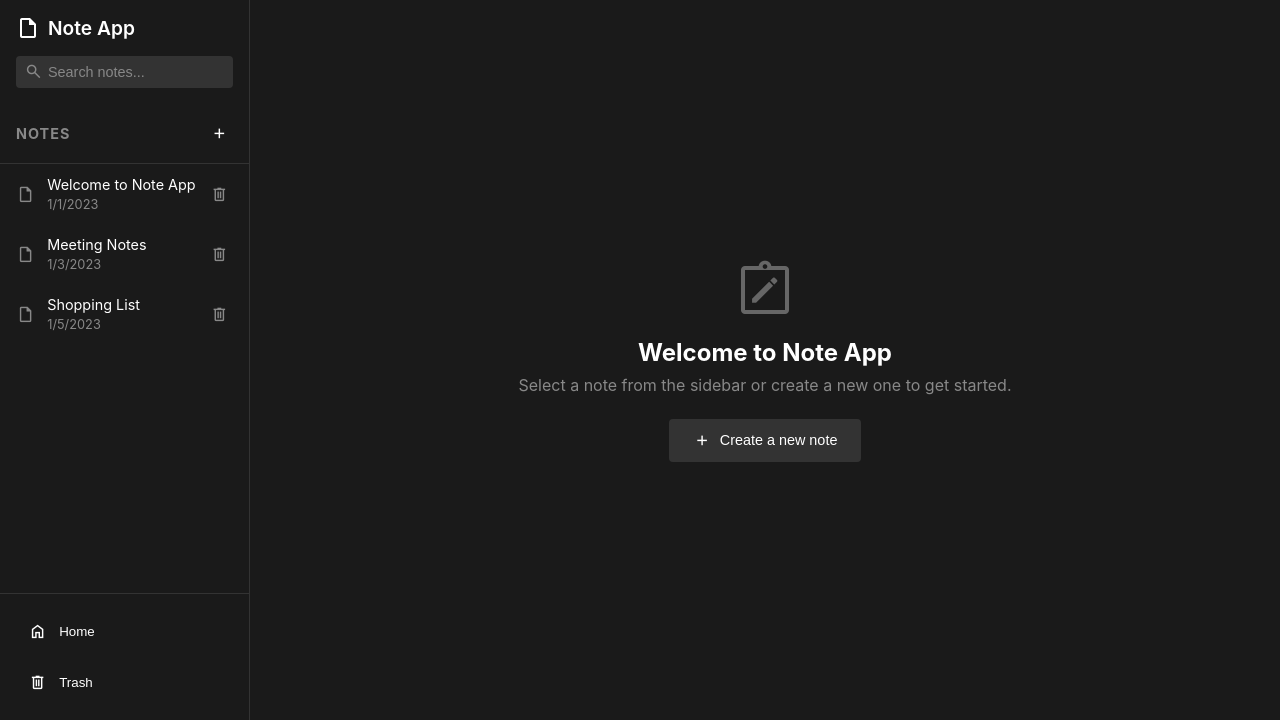
Scenario: App Component › handles note deletion and trash functionality
Create and save a note
Click the button "Create a new note" at (765, 440), box [669,419,861,462]
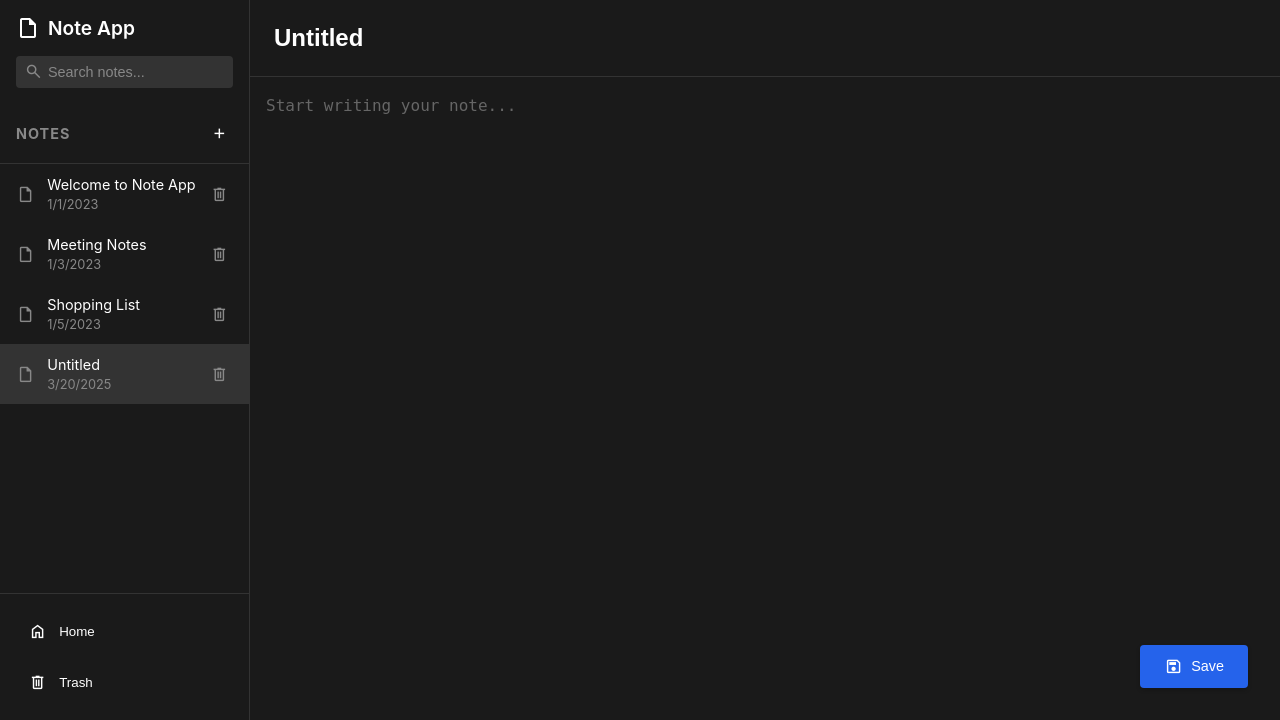
Type "Note to Delete" into the field with placeholder "Untitled" at (765, 38), box [266,16,1264,60]
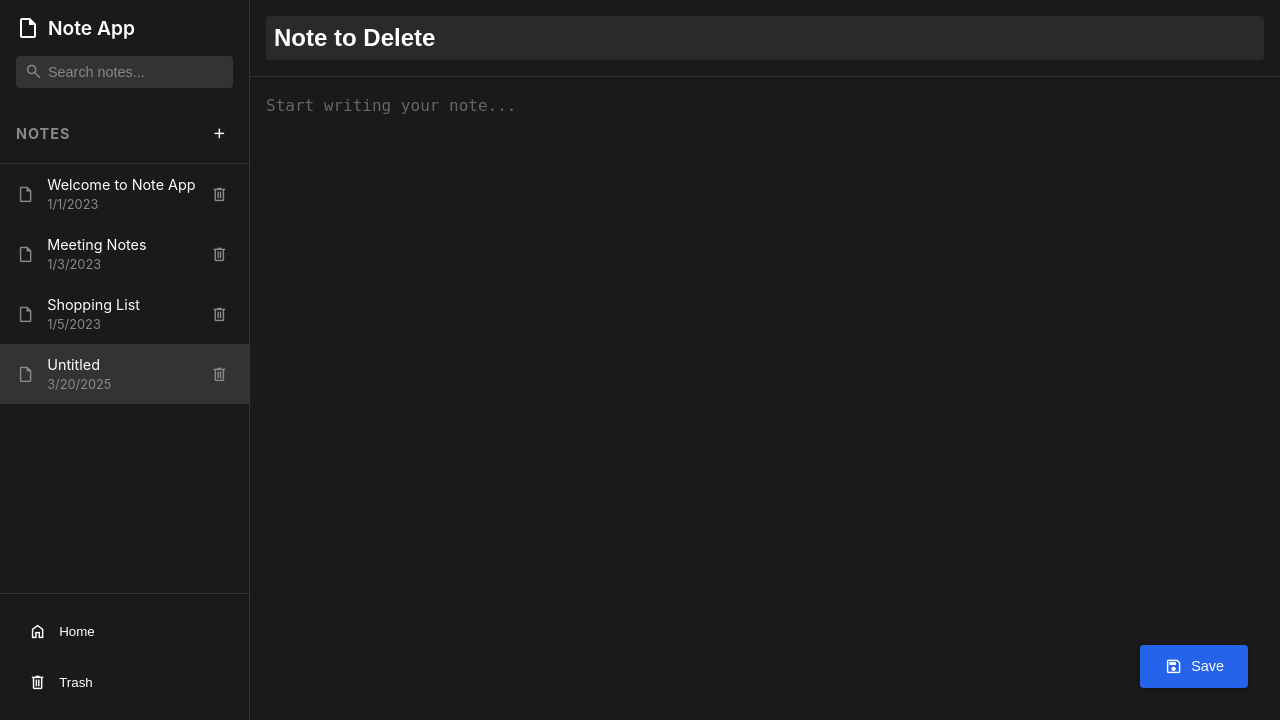
Click the button "Save" at (1194, 666), box [1140,645,1248,688]
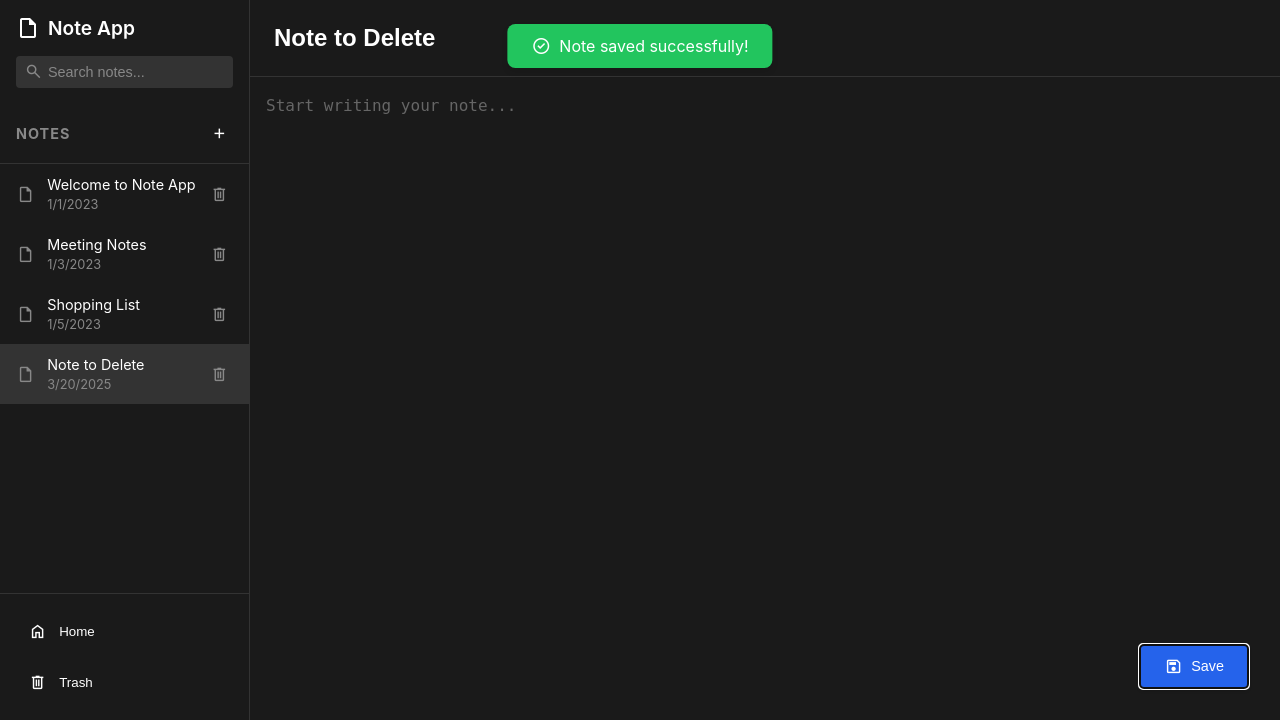
Delete the note using aria-label
Click the button named "Delete Note to Delete" at (219, 374), box [206,361,233,388]
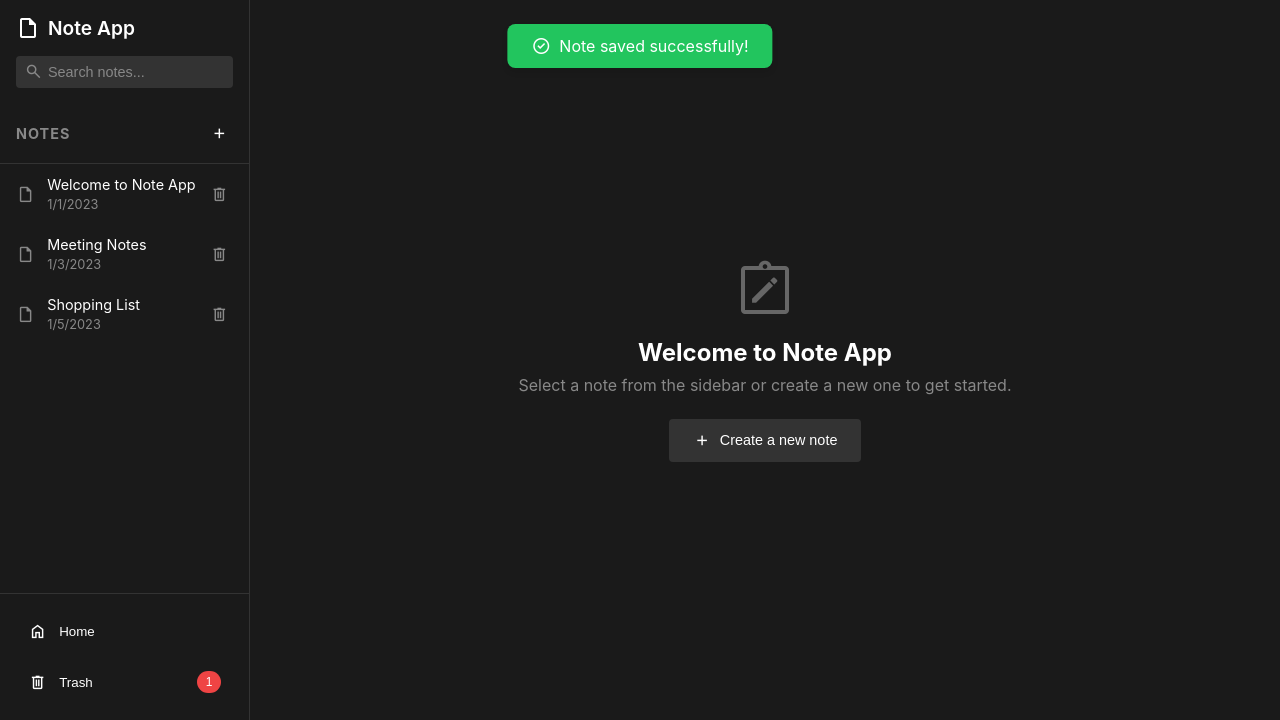
Open trash
Click the button "Trash 1" at (124, 682), box [16,661,233,704]
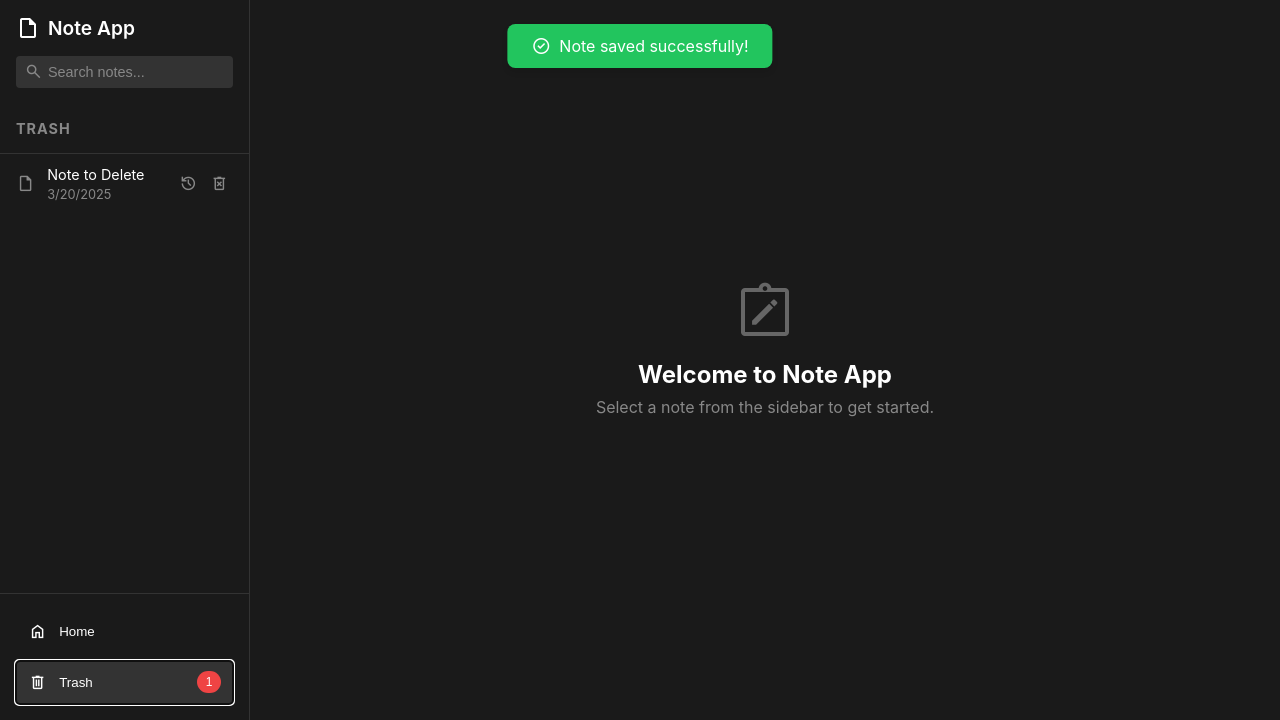
Expected: the text "Note to Delete" is shown, [47,166,144,183]
